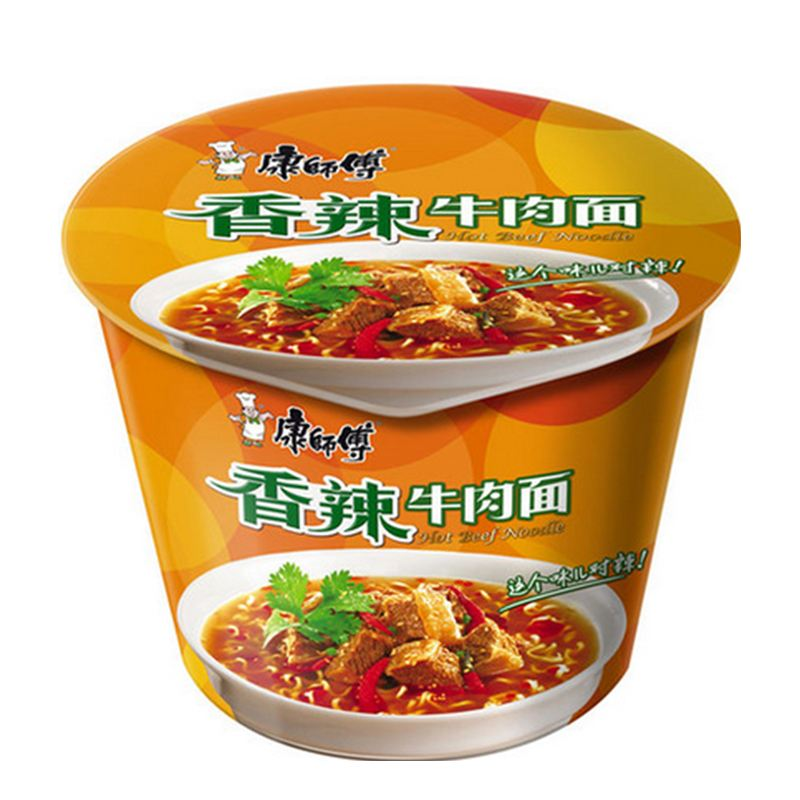xiangla: (60, 83, 742, 762)
